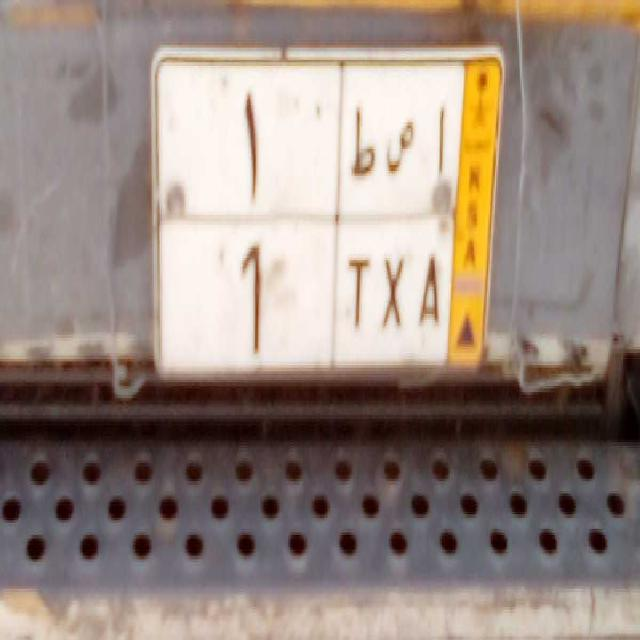license_plate: (181, 218, 451, 385)
